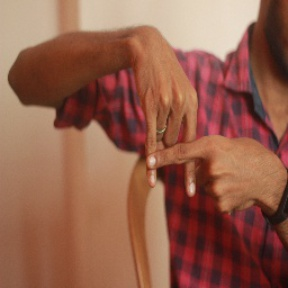H: (110, 82, 229, 212)
